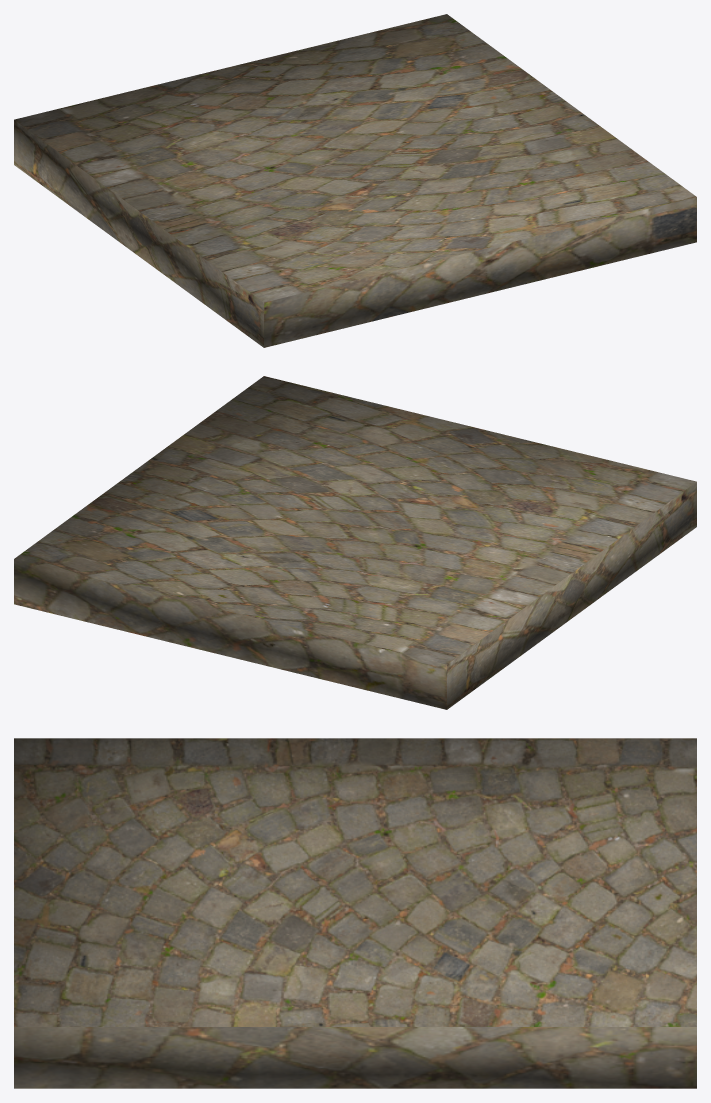
File: stone_floor.glb
3 views of the same model, one above another, from view 1: azimuth 30°, elevation 25°; view 2: azimuth 150°, elevation 25°; view 3: azimuth 270°, elevation 25° (orthographic). The views are drawn at different scales.
Visible parts, largest first — view 1: stone_floor; view 2: stone_floor; view 3: stone_floor.
Part boxes in pixels (bbox=[...]): stone_floor: bbox=[14, 14, 696, 347]; stone_floor: bbox=[14, 376, 696, 709]; stone_floor: bbox=[14, 738, 696, 1088].
Size of the model in its own units: 1 by 0.1 by 1.
1 material, 1 textured.
